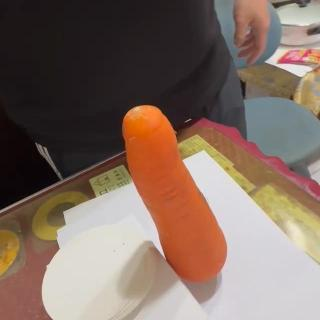carrot: (120, 104, 228, 284)
